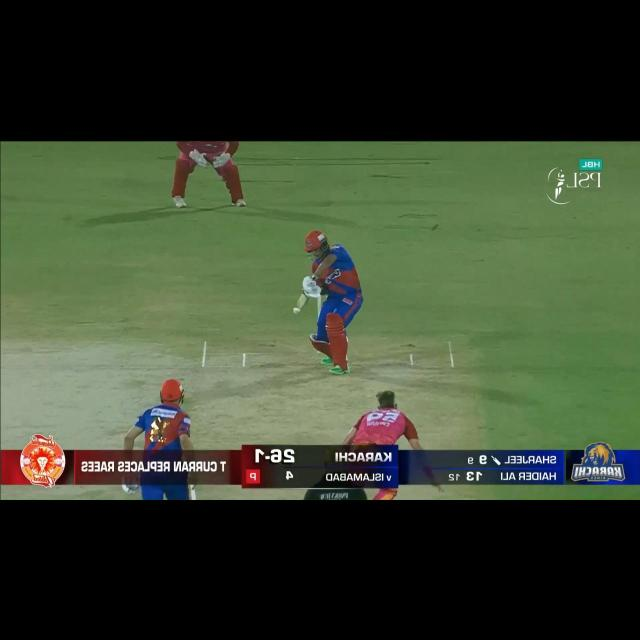bat: (294, 290, 315, 312), (187, 484, 198, 500)
toe: (294, 298, 307, 312)
